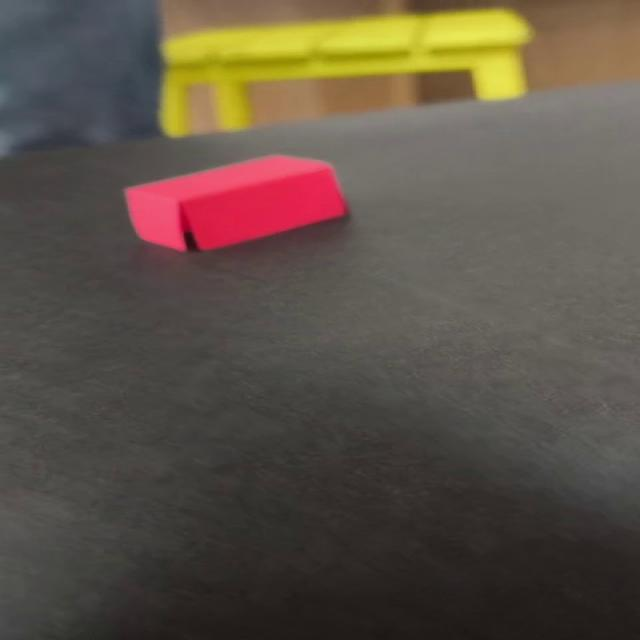red block: (121, 152, 348, 252)
